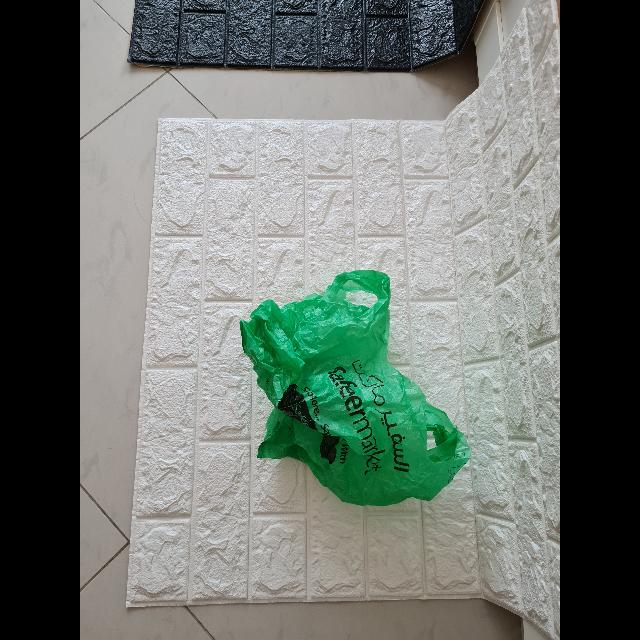plastic_bag: (233, 254, 479, 516)
